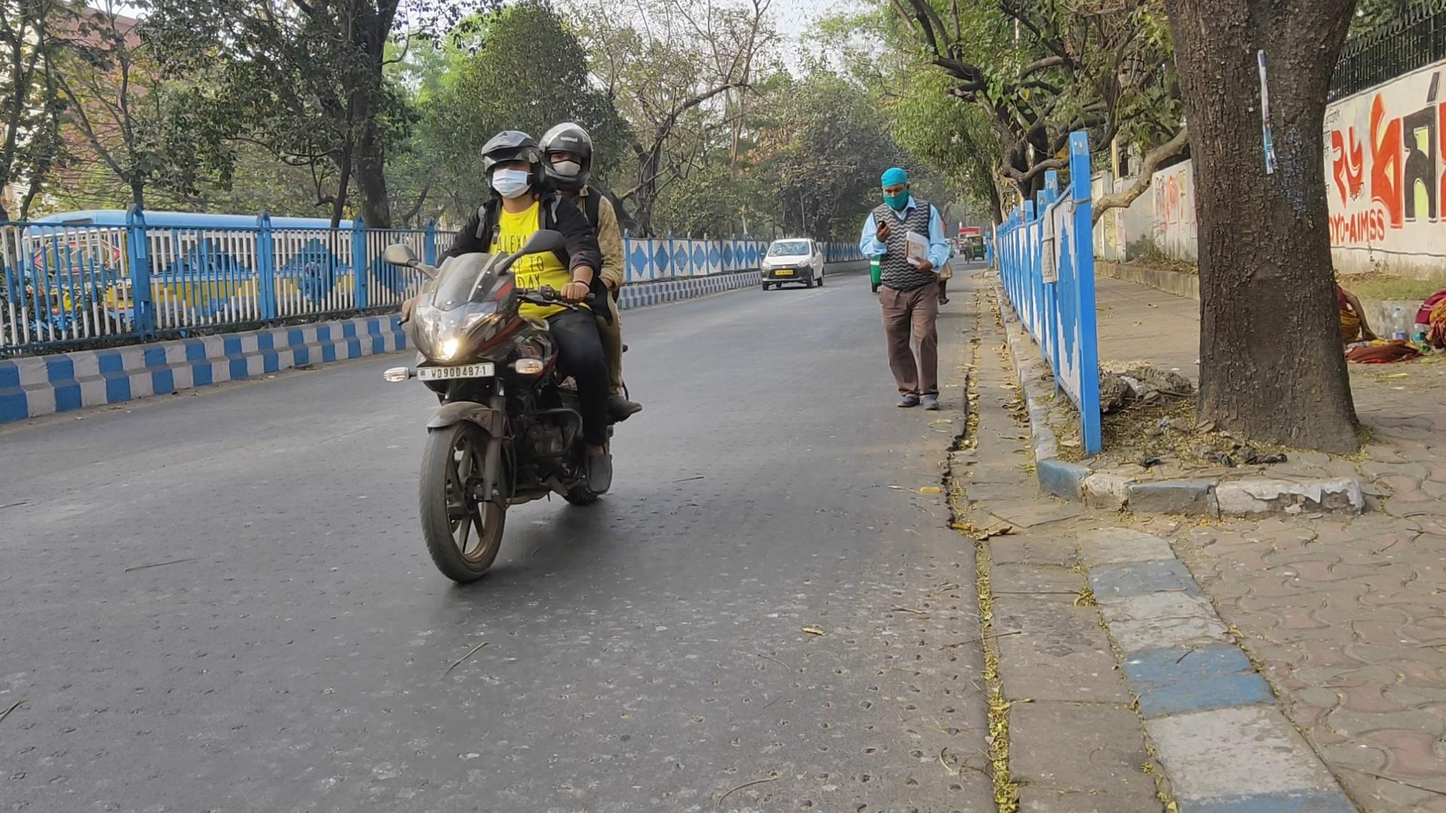Auto: (963, 234, 985, 260)
bike: (382, 120, 641, 583), (962, 235, 974, 264)
car: (759, 237, 825, 289)
